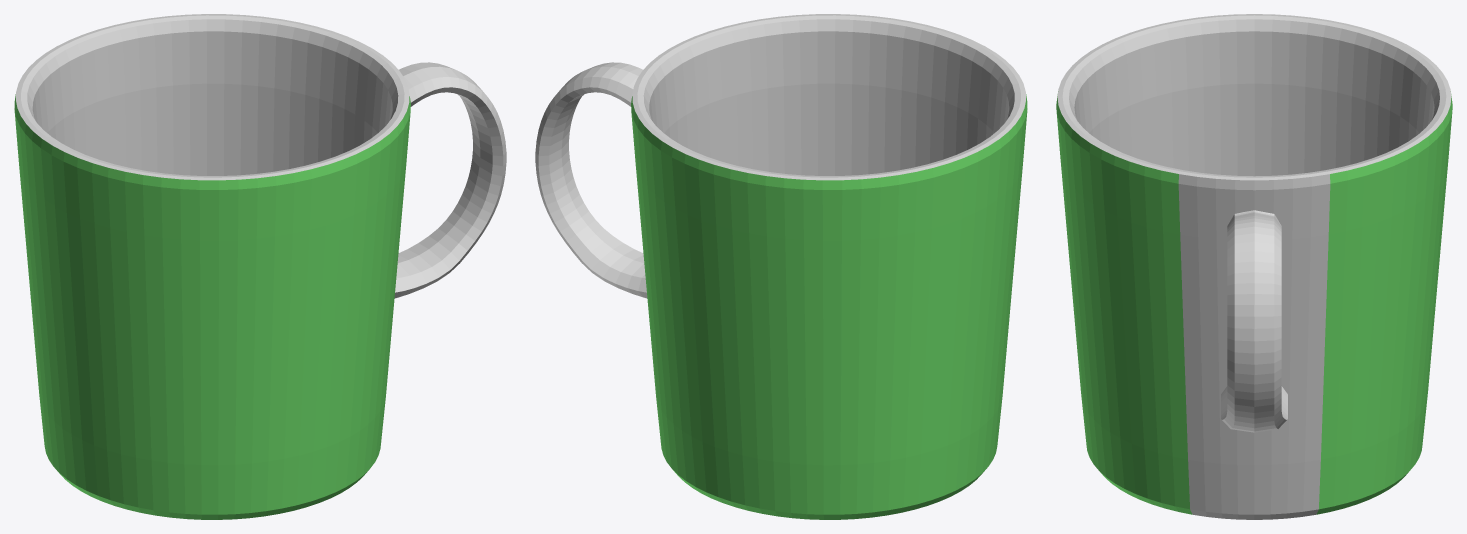
File: mug.fbx
3 views of the same model, side by side, from view 1: azimuth 30°, elevation 25°; view 2: azimuth 150°, elevation 25°; view 3: azimuth 270°, elevation 25° (orthographic).
Parts seen in each view (by area): view 1: Muki; view 2: Muki; view 3: Muki.
Part boxes in pixels (bbox=[...]): Muki: bbox=[14, 14, 506, 519]; Muki: bbox=[535, 14, 1027, 519]; Muki: bbox=[1056, 14, 1452, 519].
Bounding box in the file's own units: 10.68 × 7.91 × 8.01.
